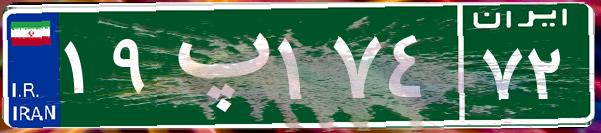1: (273, 28, 330, 110), (57, 26, 110, 107)
2: (525, 38, 570, 115)
4: (385, 28, 445, 110)
7: (330, 28, 385, 110), (475, 38, 525, 113)
9: (110, 28, 158, 105)
پ: (158, 15, 273, 115)
